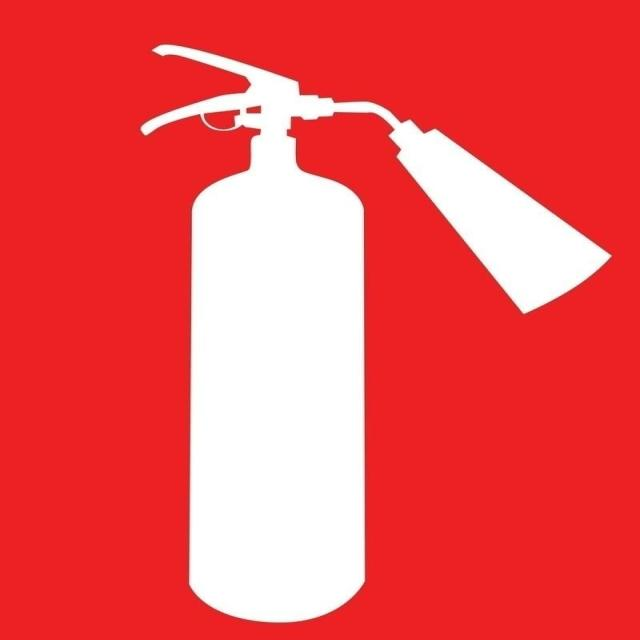fire_extinguisher: (127, 34, 620, 627)
